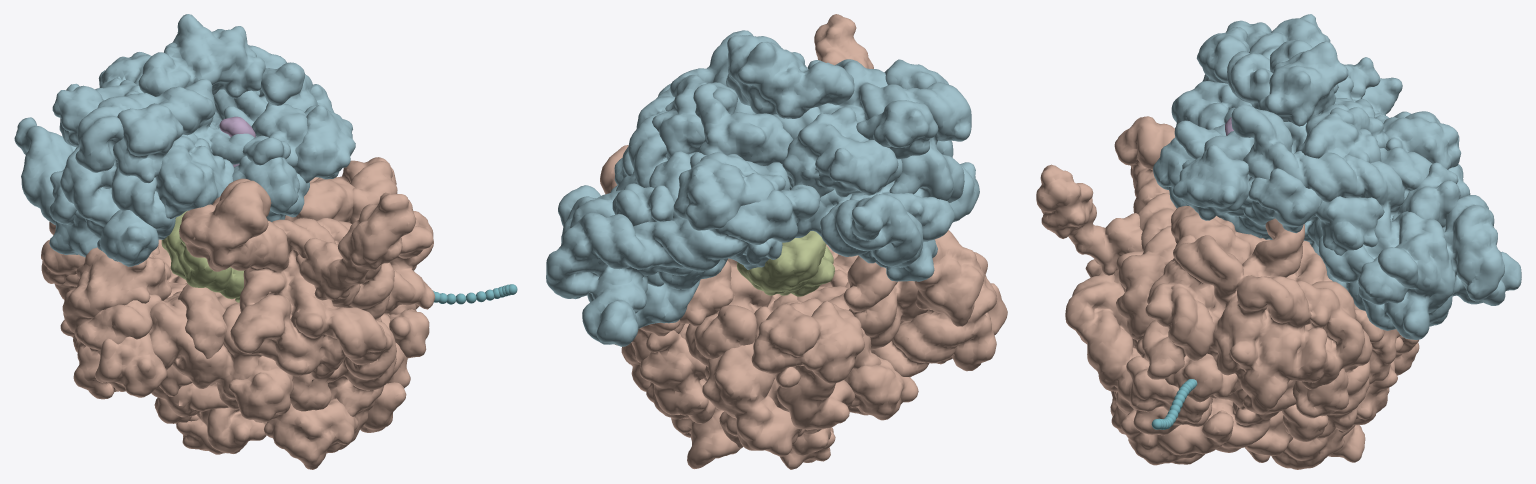
The picture shows the model from 3 angles, left to right: view 1: azimuth 30°, elevation 25°; view 2: azimuth 150°, elevation 25°; view 3: azimuth 270°, elevation 25°; orthographic projection. The views are drawn at different scales.
Parts seen in each view (by area): view 1: 大亚基 · 23S rRNA | 23S rRNA, 小亚基 · 16S rRNA | 16S rRNA, 大亚基 · 50S ribosomal protein L9 | 50S ribosomal protein L9, 小亚基 · 30S ribosomal protein S2 | 30S ribosomal protein S2, 大亚基 · 50S ribosomal protein L5 | 50S ribosomal protein L5, 小亚基 · 30S ribosomal protein S7 | 30S ribosomal protein S7, 大亚基 · 5S rRNA | 5S rRNA, 大亚基 · 50S ribosomal protein L4 | 50S ribosomal protein L4, 小亚基 · 30S ribosomal protein S9 | 30S ribosomal protein S9, 小亚基 · 30S ribosomal protein S6 | 30S ribosomal protein S6, 大亚基 · 50S ribosomal protein L18 | 50S ribosomal protein L18, 大亚基 · 50S ribosomal protein L15 | 50S ribosomal protein L15 (+19 smaller); view 2: 小亚基 · 16S rRNA | 16S rRNA, 大亚基 · 23S rRNA | 23S rRNA, 小亚基 · 30S ribosomal protein S2 | 30S ribosomal protein S2, 大亚基 · 50S ribosomal protein L11 | 50S ribosomal protein L11, 小亚基 · 30S ribosomal protein S3 | 30S ribosomal protein S3, 大亚基 · 50S ribosomal protein L6 | 50S ribosomal protein L6, 大亚基 · 5S rRNA | 5S rRNA, 小亚基 · 30S ribosomal protein S4 | 30S ribosomal protein S4, 大亚基 · 50S ribosomal protein L3 | 50S ribosomal protein L3, 小亚基 · 30S ribosomal protein S5 | 30S ribosomal protein S5, 大亚基 · 50S ribosomal protein L5 | 50S ribosomal protein L5, ribosome recycling factor (+16 smaller); view 3: 大亚基 · 23S rRNA | 23S rRNA, 小亚基 · 16S rRNA | 16S rRNA, 大亚基 · 50S ribosomal protein L9 | 50S ribosomal protein L9, 小亚基 · 30S ribosomal protein S2 | 30S ribosomal protein S2, 小亚基 · 30S ribosomal protein S6 | 30S ribosomal protein S6, 大亚基 · 50S ribosomal protein L24 | 50S ribosomal protein L24, 小亚基 · 30S ribosomal protein S15 | 30S ribosomal protein S15, 小亚基 · 30S ribosomal protein S4 | 30S ribosomal protein S4, 小亚基 · 30S ribosomal protein S17 | 30S ribosomal protein S17, 小亚基 · 30S ribosomal protein S8 | 30S ribosomal protein S8, 大亚基 · 50S ribosomal protein L29 | 50S ribosomal protein L29, 小亚基 · 30S ribosomal protein S7 | 30S ribosomal protein S7 (+18 smaller).
Boxes of the visible parts, <box> form: 大亚基 · 23S rRNA | 23S rRNA: <box>54,157,434,453</box>; 小亚基 · 16S rRNA | 16S rRNA: <box>14,62,317,238</box>; 大亚基 · 50S ribosomal protein L9 | 50S ribosomal protein L9: <box>295,192,416,300</box>; 小亚基 · 30S ribosomal protein S2 | 30S ribosomal protein S2: <box>138,14,265,98</box>; 大亚基 · 50S ribosomal protein L5 | 50S ribosomal protein L5: <box>62,247,171,333</box>; 小亚基 · 30S ribosomal protein S7 | 30S ribosomal protein S7: <box>155,132,234,218</box>; 大亚基 · 5S rRNA | 5S rRNA: <box>73,294,161,399</box>; 大亚基 · 50S ribosomal protein L4 | 50S ribosomal protein L4: <box>264,398,358,469</box>; 小亚基 · 30S ribosomal protein S9 | 30S ribosomal protein S9: <box>113,103,183,183</box>; 小亚基 · 30S ribosomal protein S6 | 30S ribosomal protein S6: <box>294,105,355,183</box>; 大亚基 · 50S ribosomal protein L18 | 50S ribosomal protein L18: <box>95,333,167,397</box>; 大亚基 · 50S ribosomal protein L15 | 50S ribosomal protein L15: <box>228,356,293,422</box>; 小亚基 · 16S rRNA | 16S rRNA: <box>546,30,971,346</box>; 大亚基 · 23S rRNA | 23S rRNA: <box>600,145,928,469</box>; 小亚基 · 30S ribosomal protein S2 | 30S ribosomal protein S2: <box>726,35,854,118</box>; 大亚基 · 50S ribosomal protein L11 | 50S ribosomal protein L11: <box>751,301,864,388</box>; 小亚基 · 30S ribosomal protein S3 | 30S ribosomal protein S3: <box>782,107,902,197</box>; 大亚基 · 50S ribosomal protein L6 | 50S ribosomal protein L6: <box>702,306,804,456</box>; 大亚基 · 5S rRNA | 5S rRNA: <box>870,252,997,377</box>; 小亚基 · 30S ribosomal protein S4 | 30S ribosomal protein S4: <box>673,152,790,230</box>; 大亚基 · 50S ribosomal protein L3 | 50S ribosomal protein L3: <box>639,330,715,423</box>; 小亚基 · 30S ribosomal protein S5 | 30S ribosomal protein S5: <box>693,83,793,165</box>; 大亚基 · 50S ribosomal protein L5 | 50S ribosomal protein L5: <box>914,230,984,326</box>; ribosome recycling factor: <box>737,231,834,296</box>; 大亚基 · 23S rRNA | 23S rRNA: <box>1065,116,1372,469</box>; 小亚基 · 16S rRNA | 16S rRNA: <box>1168,20,1521,339</box>; 大亚基 · 50S ribosomal protein L9 | 50S ribosomal protein L9: <box>1036,164,1142,275</box>; 小亚基 · 30S ribosomal protein S2 | 30S ribosomal protein S2: <box>1258,39,1348,126</box>; 小亚基 · 30S ribosomal protein S6 | 30S ribosomal protein S6: <box>1172,145,1250,220</box>; 大亚基 · 50S ribosomal protein L24 | 50S ribosomal protein L24: <box>1120,409,1233,465</box>; 小亚基 · 30S ribosomal protein S15 | 30S ribosomal protein S15: <box>1243,168,1322,233</box>; 小亚基 · 30S ribosomal protein S4 | 30S ribosomal protein S4: <box>1375,111,1461,169</box>; 小亚基 · 30S ribosomal protein S17 | 30S ribosomal protein S17: <box>1315,196,1384,255</box>; 小亚基 · 30S ribosomal protein S8 | 30S ribosomal protein S8: <box>1297,104,1381,163</box>; 大亚基 · 50S ribosomal protein L29 | 50S ribosomal protein L29: <box>1126,356,1210,423</box>; 小亚基 · 30S ribosomal protein S7 | 30S ribosomal protein S7: <box>1171,81,1251,129</box>.
Size of the model in its own units: 1.96 by 1.89 by 2.05.
